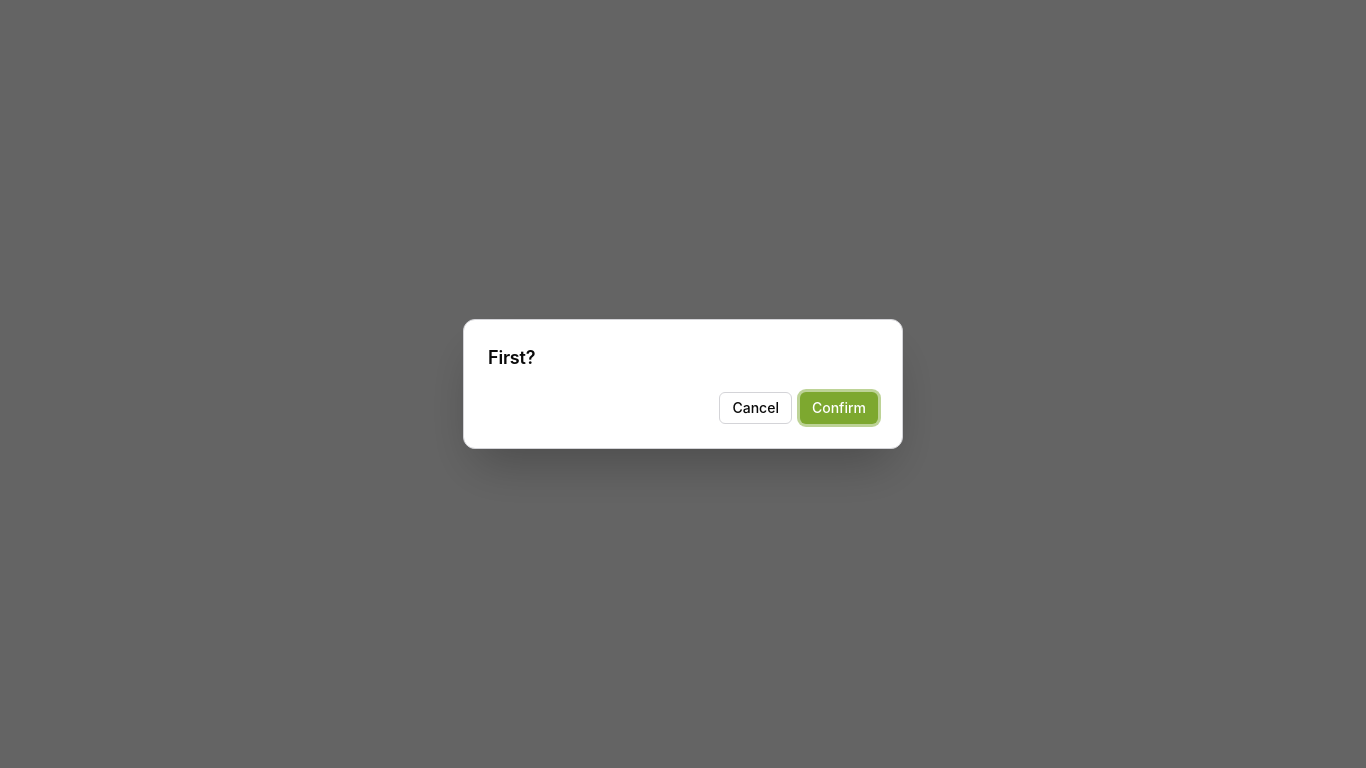
Test: confirmDialog › supports two dialogs in sequence
Later steps or results of the test are not shown.
Click the button "Confirm": point(839, 408) top-left (800, 392), bottom-right (878, 424)
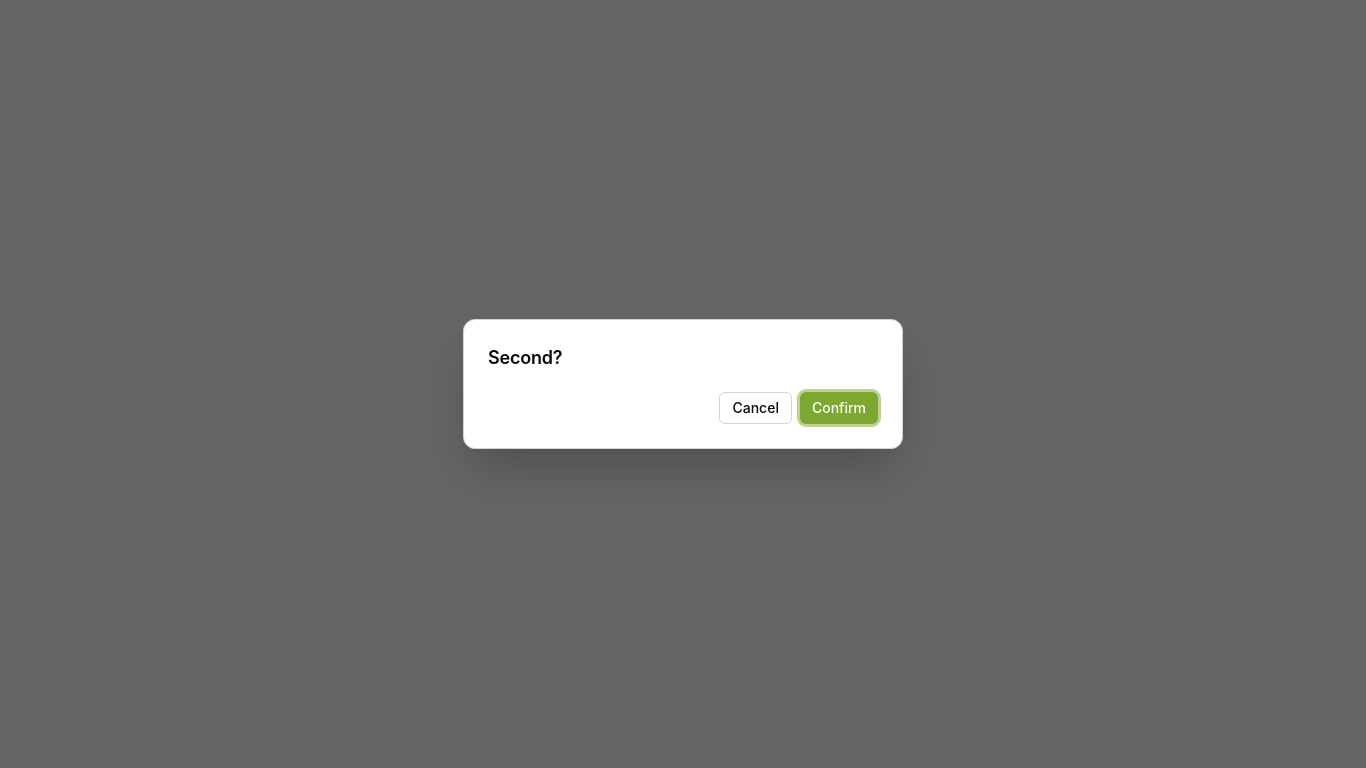
Expected: the heading "Second?" is shown, top-left (488, 347), bottom-right (562, 368)
